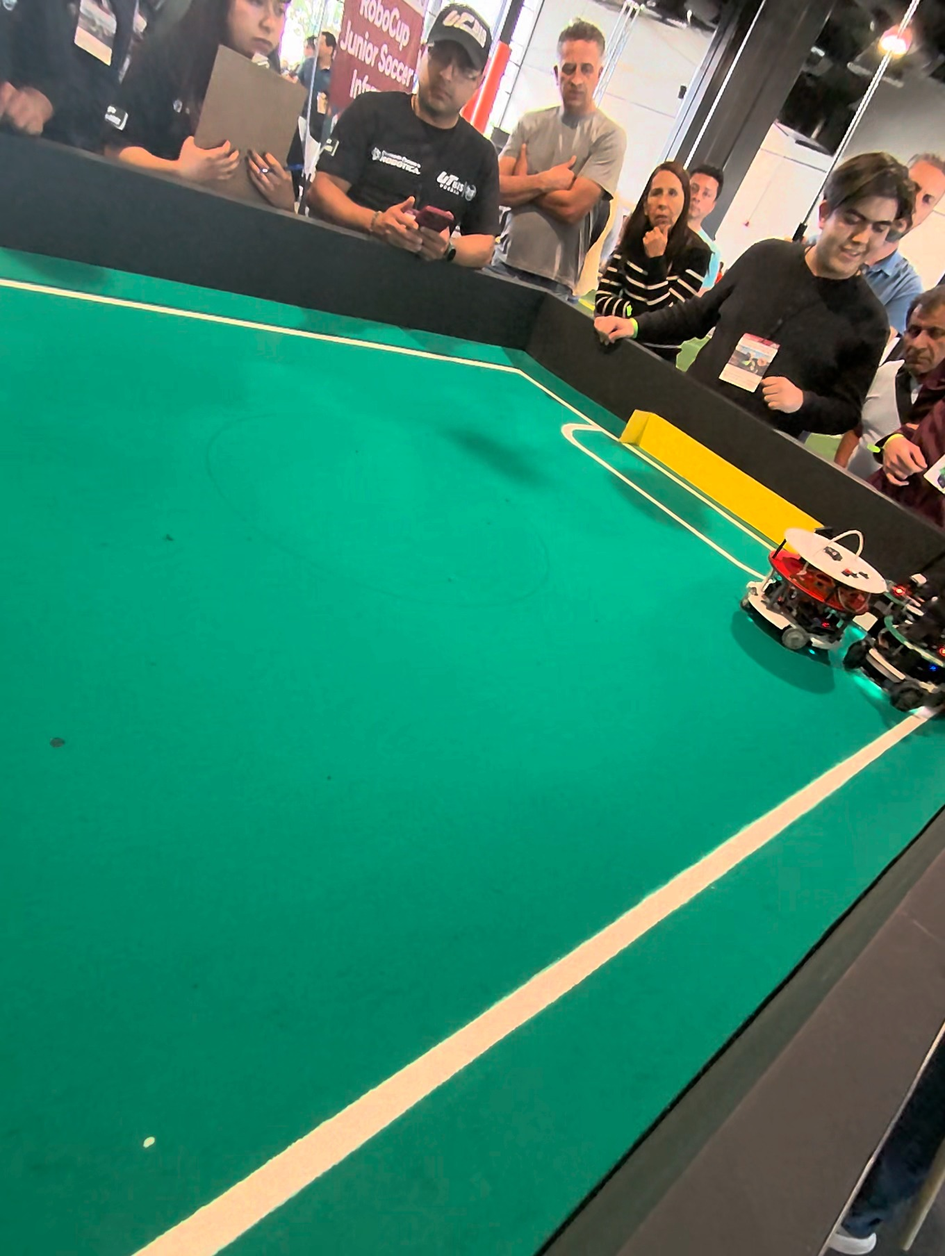Robot: (736, 524, 866, 666), (852, 560, 945, 726)
